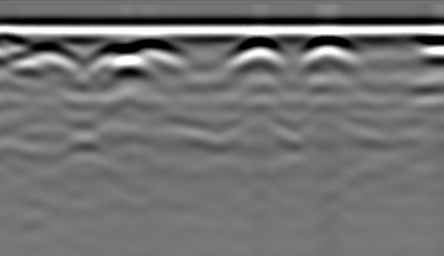pipe: (1, 29, 21, 42)
steel: (16, 40, 82, 72), (302, 38, 356, 68), (235, 39, 283, 68), (92, 45, 135, 75)
